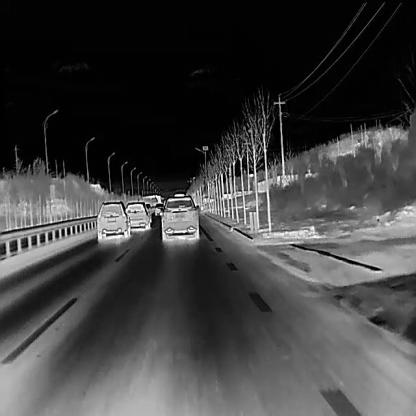car: (159, 193, 199, 243), (95, 198, 129, 242), (124, 200, 150, 230), (153, 202, 164, 216)
